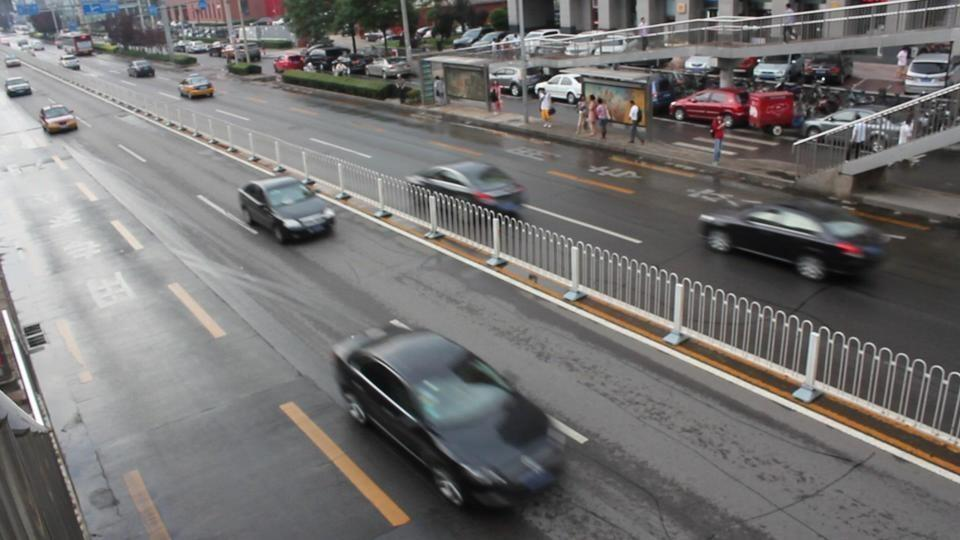car: (329, 322, 563, 512), (697, 202, 891, 283), (236, 175, 336, 245), (408, 160, 529, 217), (670, 88, 750, 126), (903, 50, 960, 96), (748, 52, 811, 89), (490, 66, 553, 98), (535, 74, 585, 104), (450, 28, 515, 51), (38, 103, 78, 134), (178, 73, 216, 100), (273, 52, 307, 73), (5, 77, 34, 98), (127, 60, 156, 77), (4, 56, 21, 68)
